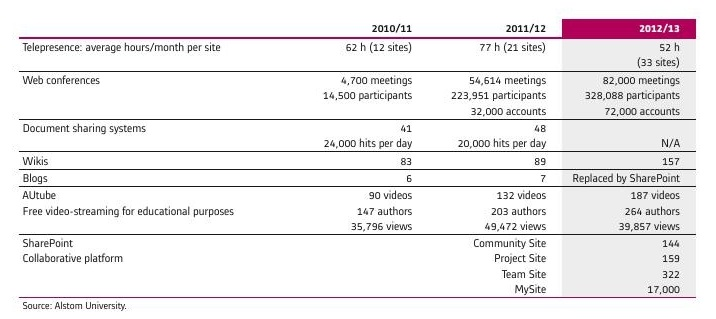table: (0, 0, 716, 319)
